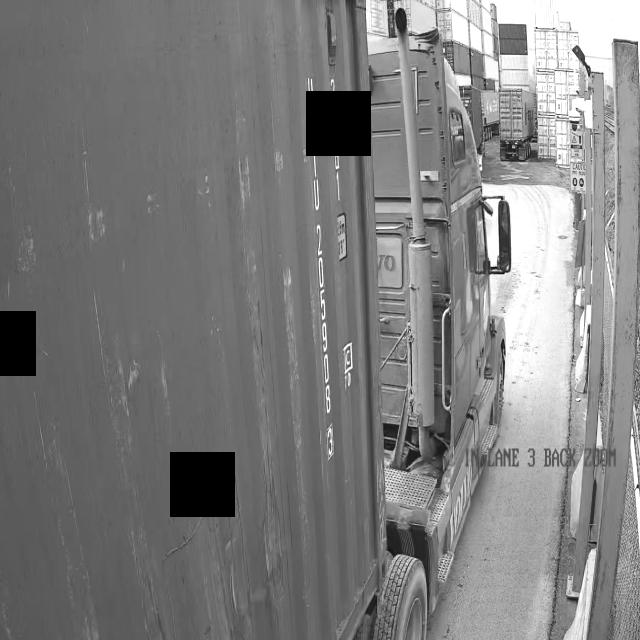container_side_no: (316, 220, 334, 459), (307, 78, 321, 212), (332, 79, 339, 204), (338, 230, 346, 259)
truck_with_container: (0, 0, 512, 640)
